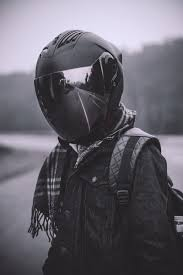with_helmet: (32, 28, 124, 92)
